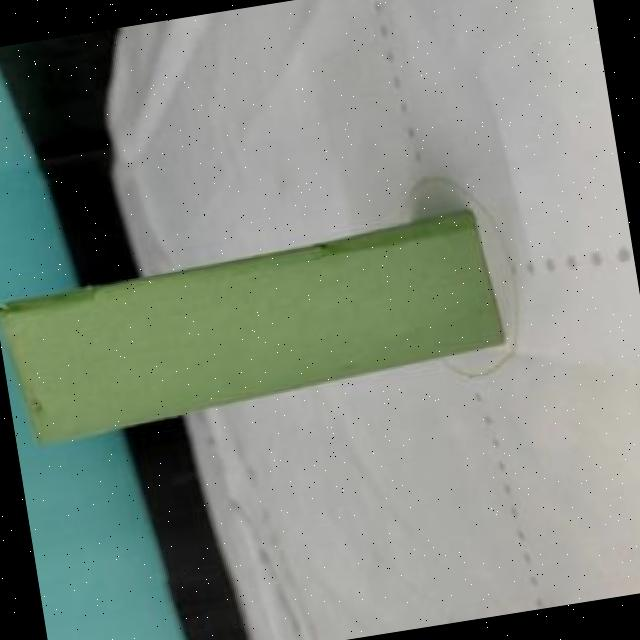greenbox: (0, 210, 509, 456)
